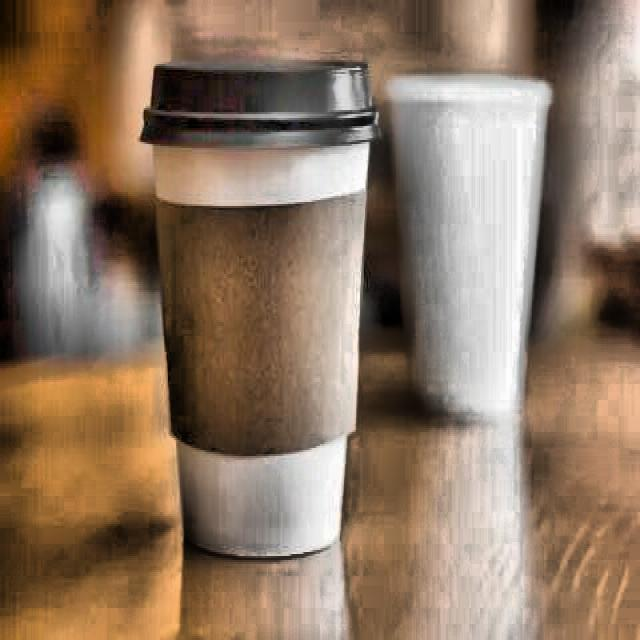Cup: (133, 97, 378, 563), (382, 52, 558, 462)
